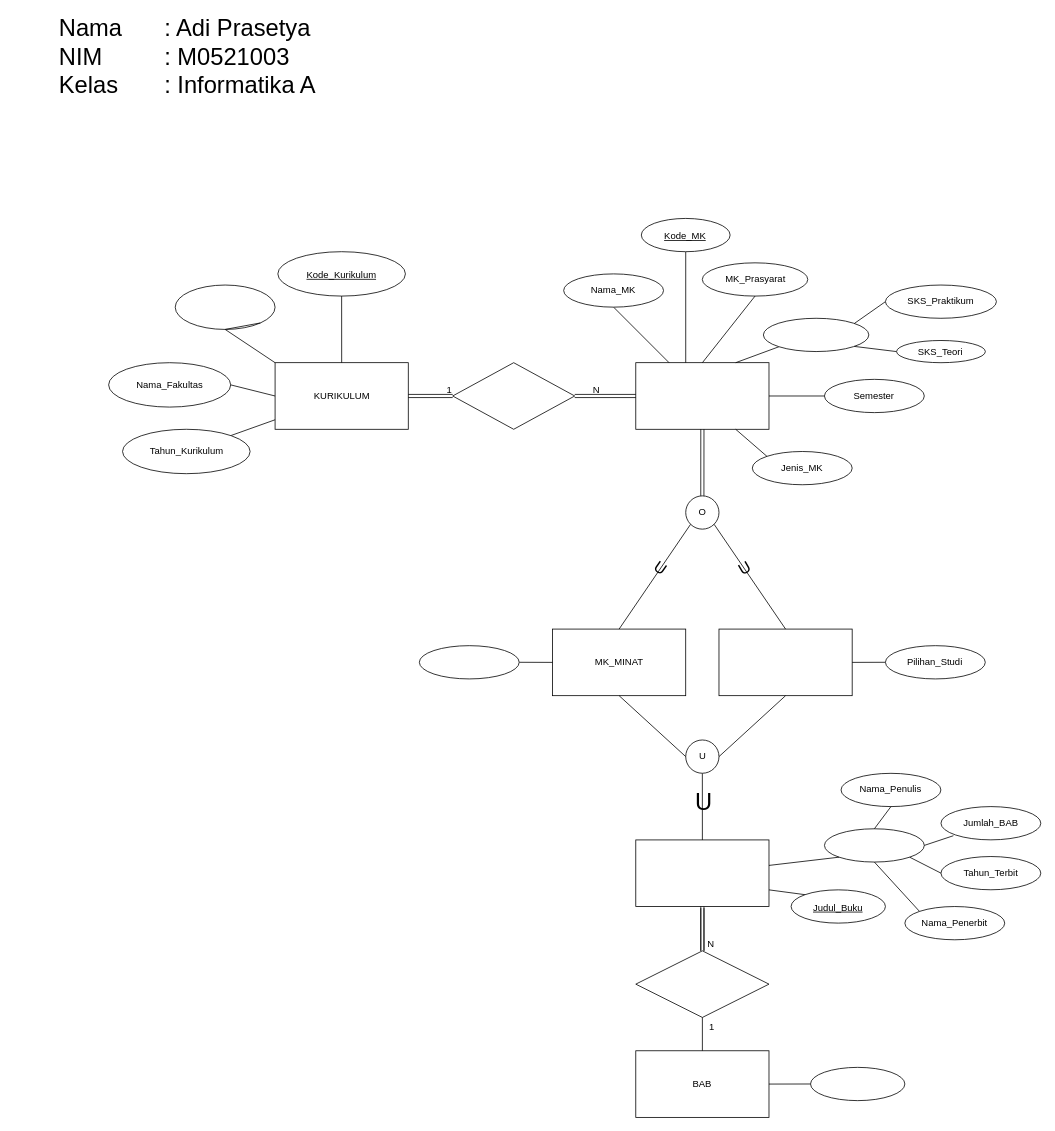
The diagram is 1055 pixels wide and 1131 high, and some of its shapes have lost their labels. Here are the shapes that lost their labels. From the top down, the centre of each, then its label:
(224,306): Nama_Prodi
(816,335): Jumlah_SKS
(513,395): memiliki
(702,395): MATA KULIAH
(469,662): Minat_Studi
(785,662): MK_PILIHAN
(874,845): Identitas_Buku
(702,873): BUKU_REFERENSI
(702,983): mengandung
(857,1084): Judul_BAB
